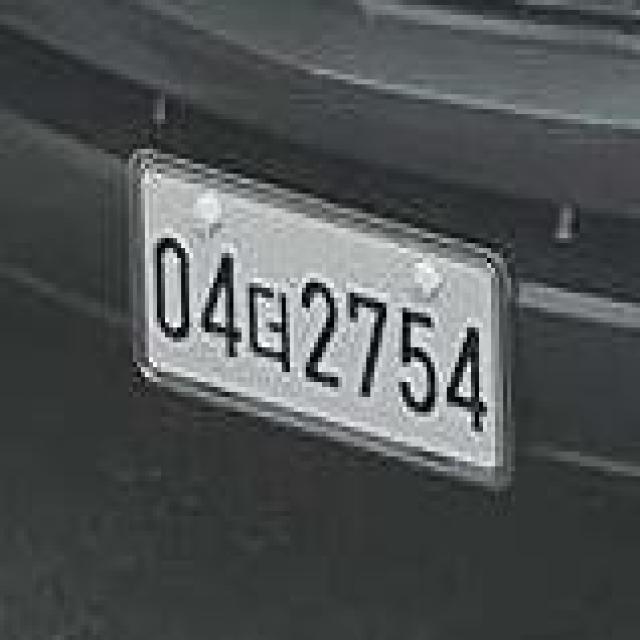illegal_plate: (132, 140, 513, 500)
